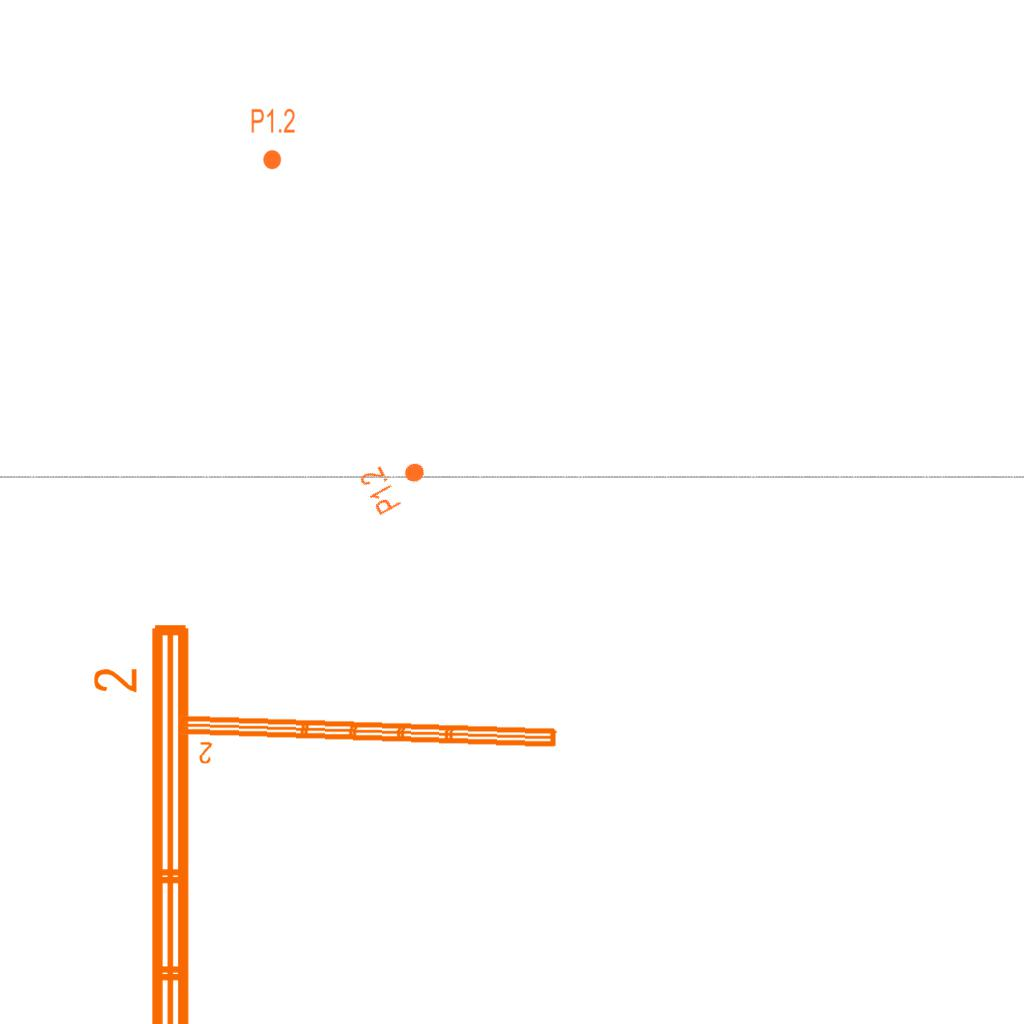Ambulanz_Pendelleuchte_LED: (89, 616, 201, 1024), (173, 709, 562, 779)
Downlight_LED_Einbauleuchten_Flur: (356, 446, 436, 518), (250, 107, 296, 171)
